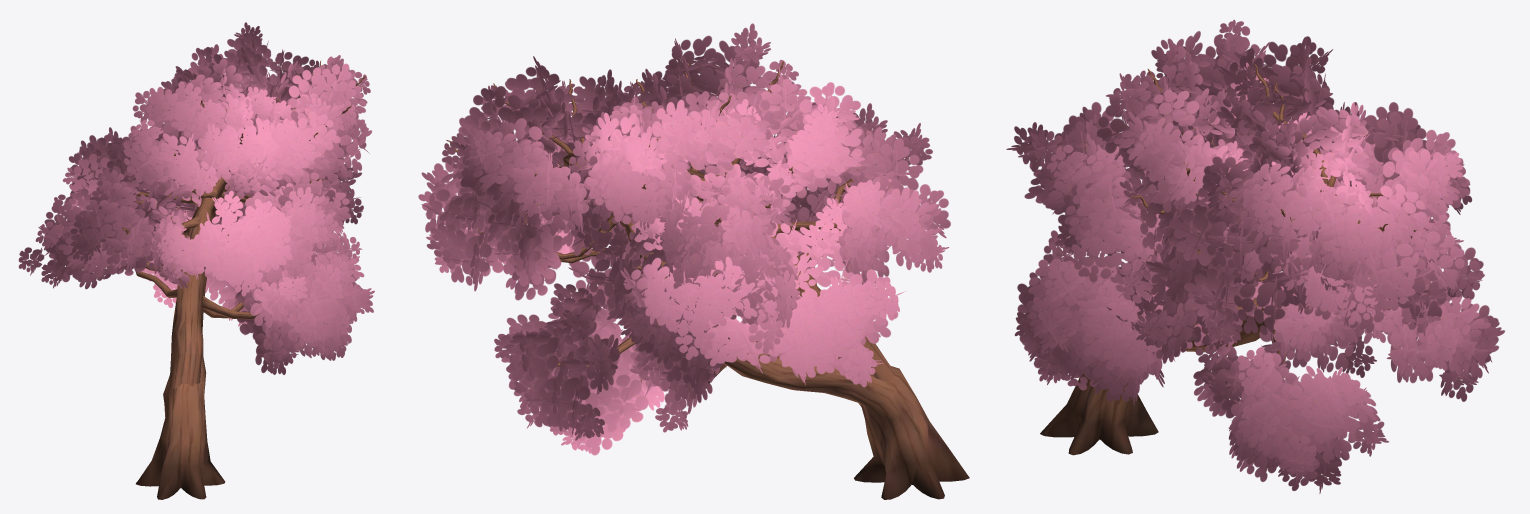
The model's file is tree-wedding-2-young.glb.
The picture shows the model from 3 angles, left to right: view 1: azimuth 30°, elevation 25°; view 2: azimuth 150°, elevation 25°; view 3: azimuth 270°, elevation 25°; orthographic projection. The views are drawn at different scales.
Visible parts, largest first — view 1: CherryBlossom_2; view 2: CherryBlossom_2; view 3: CherryBlossom_2.
Part boxes in pixels (x1,y1,x2,y2): CherryBlossom_2: [18, 22, 374, 499]; CherryBlossom_2: [418, 23, 969, 499]; CherryBlossom_2: [1006, 19, 1504, 493].
Bounding box in the file's own units: 2.58 × 2.4 × 2.54.
Materials: 2 (2 with a texture image).
